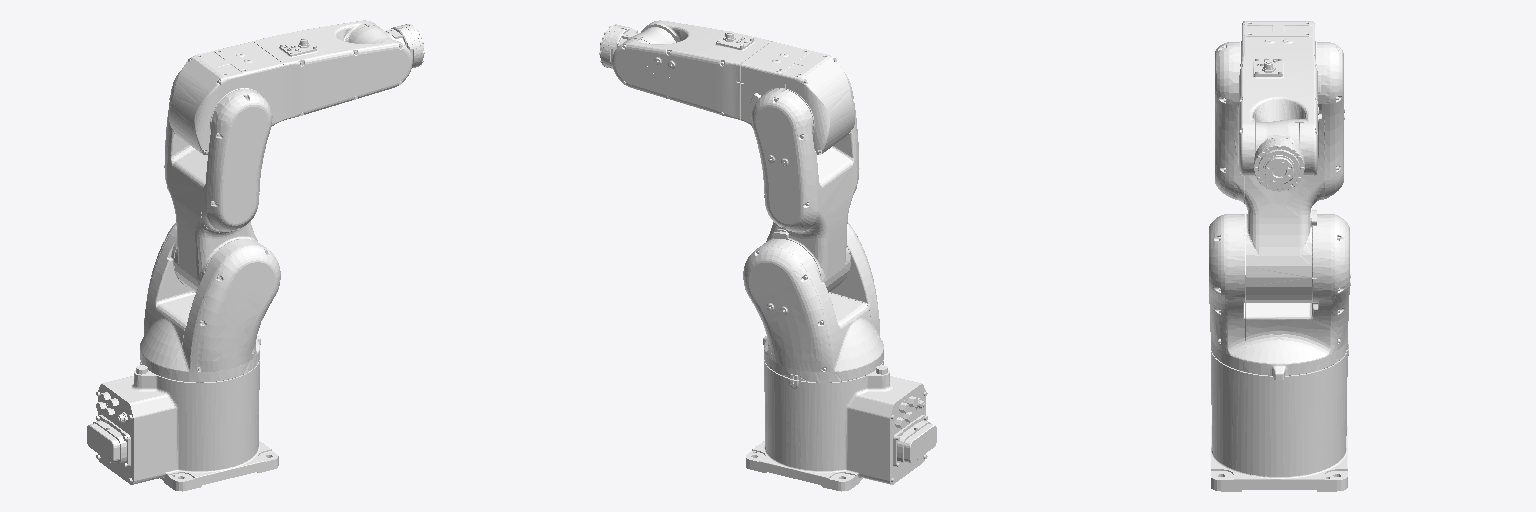
URDF robot description (rokae):
<robot
  name="rokae">
  <link
    name="base_link">
    <inertial>
      <origin
        xyz="-0.0247702979705072 8.83157337442717E-06 -0.0913242486824033"
        rpy="0 0 0" />
      <mass
        value="5.92495775488409" />
      <inertia
        ixx="0"
        ixy="0"
        ixz="0"
        iyy="0"
        iyz="0"
        izz="0" />
    </inertial>
    <visual>
      <origin
        xyz="0 0 0"
        rpy="0 0 0" />
      <geometry>
        <mesh
          filename="package://rokae/meshes/base_link.STL" />
      </geometry>
      <material
        name="">
        <color
          rgba="1 1 1 1" />
      </material>
    </visual>
    <collision>
      <origin
        xyz="0 0 0"
        rpy="0 0 0" />
      <geometry>
        <mesh
          filename="package://rokae/meshes/base_link.STL" />
      </geometry>
    </collision>
  </link>
  <link
    name="Link_1">
    <inertial>
      <origin
        xyz="0.0117373446679598 -0.00012100659180864 0.083722431531897"
        rpy="0 0 0" />
      <mass
        value="3.47774247106277" />
      <inertia
        ixx="0"
        ixy="0"
        ixz="0"
        iyy="0"
        iyz="0"
        izz="0" />
    </inertial>
    <visual>
      <origin
        xyz="0 0 0"
        rpy="0 0 0" />
      <geometry>
        <mesh
          filename="package://rokae/meshes/Link_1.STL" />
      </geometry>
      <material
        name="">
        <color
          rgba="1 1 1 1" />
      </material>
    </visual>
    <collision>
      <origin
        xyz="0 0 0"
        rpy="0 0 0" />
      <geometry>
        <mesh
          filename="package://rokae/meshes/Link_1.STL" />
      </geometry>
    </collision>
  </link>
  <joint
    name="Joint_1"
    type="continuous">
    <origin
      xyz="0 0 0"
      rpy="0 0 0" />
    <parent
      link="base_link" />
    <child
      link="Link_1" />
    <axis
      xyz="0 0 1" />
  </joint>
  <link
    name="Link_2">
    <inertial>
      <origin
        xyz="0.0297425061950912 -0.000782130246424844 0.273103924765273"
        rpy="0 0 0" />
      <mass
        value="3.60654764202097" />
      <inertia
        ixx="0"
        ixy="0"
        ixz="0"
        iyy="0"
        iyz="0"
        izz="0" />
    </inertial>
    <visual>
      <origin
        xyz="0 0 0"
        rpy="0 0 0" />
      <geometry>
        <mesh
          filename="package://rokae/meshes/Link_2.STL" />
      </geometry>
      <material
        name="">
        <color
          rgba="1 1 1 1" />
      </material>
    </visual>
    <collision>
      <origin
        xyz="0 0 0"
        rpy="0 0 0" />
      <geometry>
        <mesh
          filename="package://rokae/meshes/Link_2.STL" />
      </geometry>
    </collision>
  </link>
  <joint
    name="Joint_2"
    type="continuous">
    <origin
      xyz="0 0 0"
      rpy="0 0 0" />
    <parent
      link="base_link" />
    <child
      link="Link_2" />
    <axis
      xyz="0 1 0" />
  </joint>
  <link
    name="Link_3">
    <inertial>
      <origin
        xyz="0.0472501501211913 -0.00163562155508445 0.44069909563997"
        rpy="0 0 0" />
      <mass
        value="1.77260685945223" />
      <inertia
        ixx="0"
        ixy="0"
        ixz="0"
        iyy="0"
        iyz="0"
        izz="0" />
    </inertial>
    <visual>
      <origin
        xyz="0 0 0"
        rpy="0 0 0" />
      <geometry>
        <mesh
          filename="package://rokae/meshes/Link_3.STL" />
      </geometry>
      <material
        name="">
        <color
          rgba="1 1 1 1" />
      </material>
    </visual>
    <collision>
      <origin
        xyz="0 0 0"
        rpy="0 0 0" />
      <geometry>
        <mesh
          filename="package://rokae/meshes/Link_3.STL" />
      </geometry>
    </collision>
  </link>
  <joint
    name="Joint_3"
    type="continuous">
    <origin
      xyz="0 0 0"
      rpy="0 0 0" />
    <parent
      link="base_link" />
    <child
      link="Link_3" />
    <axis
      xyz="0 1 0" />
  </joint>
  <link
    name="Link_4">
    <inertial>
      <origin
        xyz="0.215375169114832 -0.00104054798236882 0.455620232292236"
        rpy="0 0 0" />
      <mass
        value="1.71885043928238" />
      <inertia
        ixx="0"
        ixy="0"
        ixz="0"
        iyy="0"
        iyz="0"
        izz="0" />
    </inertial>
    <visual>
      <origin
        xyz="0 0 0"
        rpy="0 0 0" />
      <geometry>
        <mesh
          filename="package://rokae/meshes/Link_4.STL" />
      </geometry>
      <material
        name="">
        <color
          rgba="1 1 1 1" />
      </material>
    </visual>
    <collision>
      <origin
        xyz="0 0 0"
        rpy="0 0 0" />
      <geometry>
        <mesh
          filename="package://rokae/meshes/Link_4.STL" />
      </geometry>
    </collision>
  </link>
  <joint
    name="Joint_4"
    type="continuous">
    <origin
      xyz="0 0 0"
      rpy="0 0 0" />
    <parent
      link="base_link" />
    <child
      link="Link_4" />
    <axis
      xyz="1 0 0" />
  </joint>
  <link
    name="Link_5">
    <inertial>
      <origin
        xyz="0.339826606744663 -0.00227290936047979 0.454490393526931"
        rpy="0 0 0" />
      <mass
        value="0.373336262982894" />
      <inertia
        ixx="0"
        ixy="0"
        ixz="0"
        iyy="0"
        iyz="0"
        izz="0" />
    </inertial>
    <visual>
      <origin
        xyz="0 0 0"
        rpy="0 0 0" />
      <geometry>
        <mesh
          filename="package://rokae/meshes/Link_5.STL" />
      </geometry>
      <material
        name="">
        <color
          rgba="1 1 1 1" />
      </material>
    </visual>
    <collision>
      <origin
        xyz="0 0 0"
        rpy="0 0 0" />
      <geometry>
        <mesh
          filename="package://rokae/meshes/Link_5.STL" />
      </geometry>
    </collision>
  </link>
  <joint
    name="Joint_5"
    type="continuous">
    <origin
      xyz="0 0 0"
      rpy="0 0 0" />
    <parent
      link="base_link" />
    <child
      link="Link_5" />
    <axis
      xyz="0 1 0" />
  </joint>
  <link
    name="Link_6">
    <inertial>
      <origin
        xyz="0.395741723708409 -0.000333318400527269 0.454361780437817"
        rpy="0 0 0" />
      <mass
        value="0.00385662836396193" />
      <inertia
        ixx="0"
        ixy="0"
        ixz="0"
        iyy="0"
        iyz="0"
        izz="0" />
    </inertial>
    <visual>
      <origin
        xyz="0 0 0"
        rpy="0 0 0" />
      <geometry>
        <mesh
          filename="package://rokae/meshes/Link_6.STL" />
      </geometry>
      <material
        name="">
        <color
          rgba="1 1 1 1" />
      </material>
    </visual>
    <collision>
      <origin
        xyz="0 0 0"
        rpy="0 0 0" />
      <geometry>
        <mesh
          filename="package://rokae/meshes/Link_6.STL" />
      </geometry>
    </collision>
  </link>
  <joint
    name="Joint_6"
    type="continuous">
    <origin
      xyz="0 0 0"
      rpy="0 0 0" />
    <parent
      link="base_link" />
    <child
      link="Link_6" />
    <axis
      xyz="1 0 0" />
  </joint>
</robot>

--- Facts derived from the render (not from the file) ---
3 views of the same robot in one strip: view 1: azimuth 30°, elevation 25°; view 2: azimuth 150°, elevation 25°; view 3: azimuth 270°, elevation 25° (orthographic).
Robot: rokae — 7 links, 6 joints (6 continuous); root link base_link; default pose: all joints at 0.
Links seen in each view (by area): view 1: base_link, Link_1, Link_2, Link_4, Link_3, Link_5; view 2: base_link, Link_1, Link_2, Link_4, Link_3, Link_5; view 3: base_link, Link_2, Link_1, Link_4, Link_5, Link_3.
Link boxes in pixels (bbox=[...]): base_link: bbox=[87, 360, 278, 491]; Link_1: bbox=[140, 223, 280, 382]; Link_2: bbox=[164, 71, 272, 292]; Link_4: bbox=[253, 20, 412, 119]; Link_3: bbox=[169, 41, 283, 154]; Link_5: bbox=[348, 24, 424, 67]; base_link: bbox=[746, 360, 936, 491]; Link_1: bbox=[743, 223, 883, 382]; Link_2: bbox=[751, 75, 859, 292]; Link_4: bbox=[612, 20, 771, 119]; Link_3: bbox=[741, 41, 854, 154]; Link_5: bbox=[599, 24, 675, 68]; base_link: bbox=[1211, 349, 1348, 491]; Link_2: bbox=[1215, 42, 1344, 302]; Link_1: bbox=[1209, 214, 1350, 379]; Link_4: bbox=[1239, 55, 1318, 175]; Link_5: bbox=[1254, 119, 1304, 191]; Link_3: bbox=[1241, 21, 1320, 93].
Size in the robot's own frame: 0.5802 by 0.197 by 0.696 metres.
7 mesh visuals loaded from 7 distinct referenced files (7 binary STL).